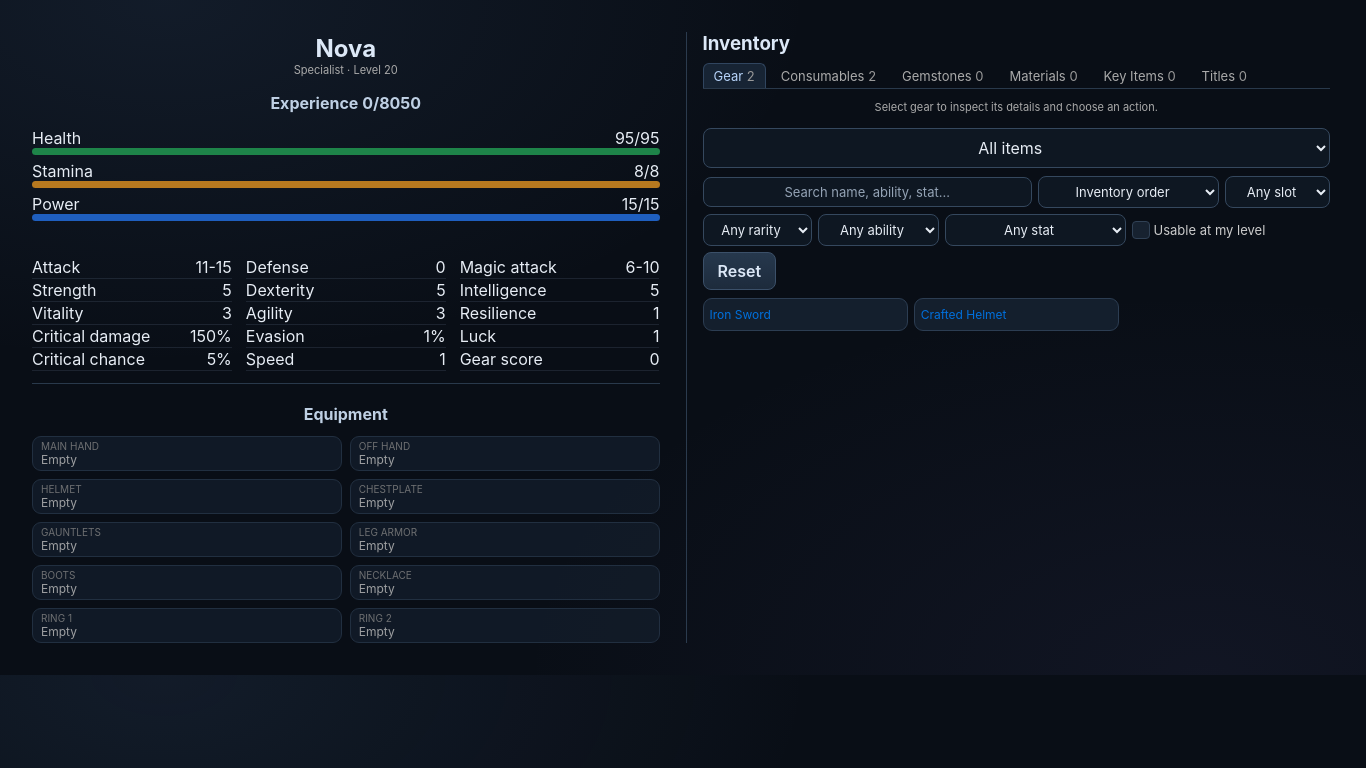
Test case: selecting and applying a rune persists Crafted gear and hides it from further rune targets
Click the tab "Consumables 2": coordinates (828, 76) [770,63,887,88]
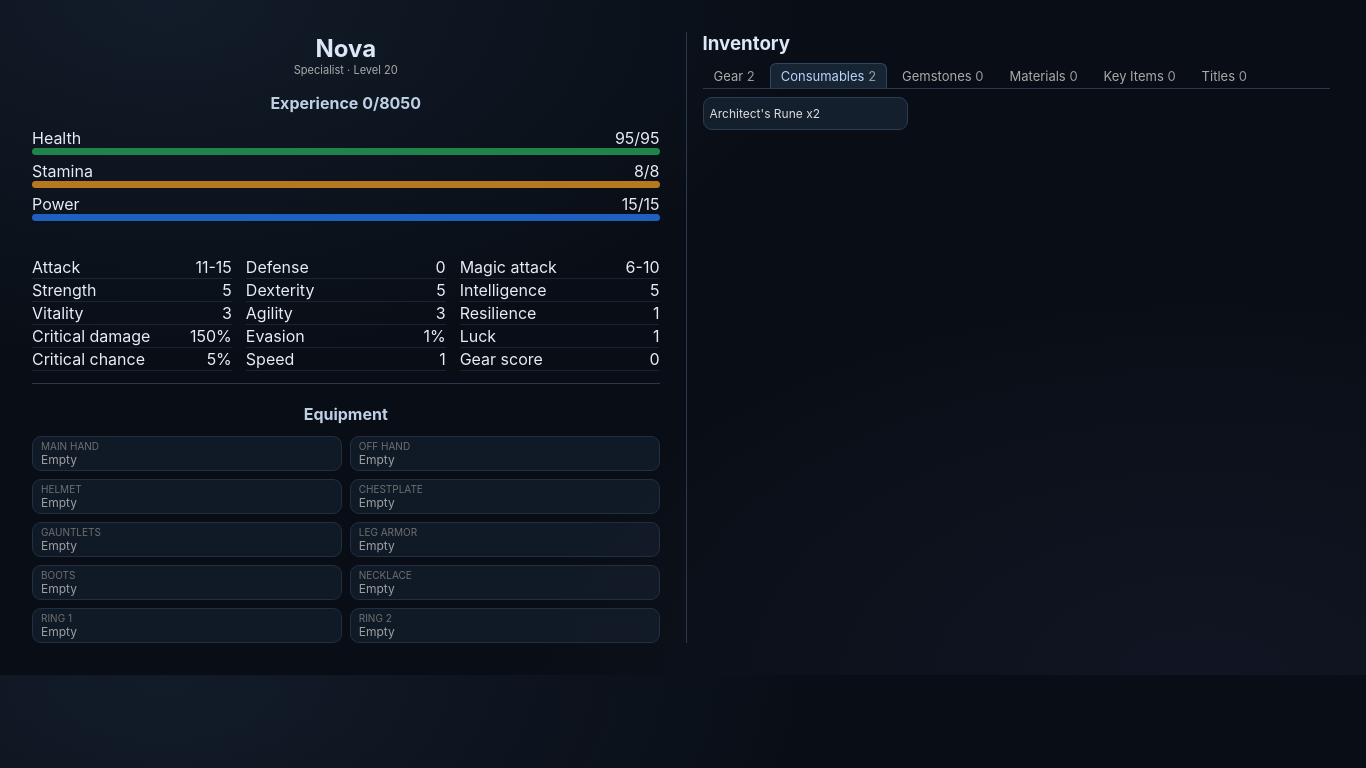
Click the button "Architect's Rune x2": coordinates (805, 114) [702,97,908,130]
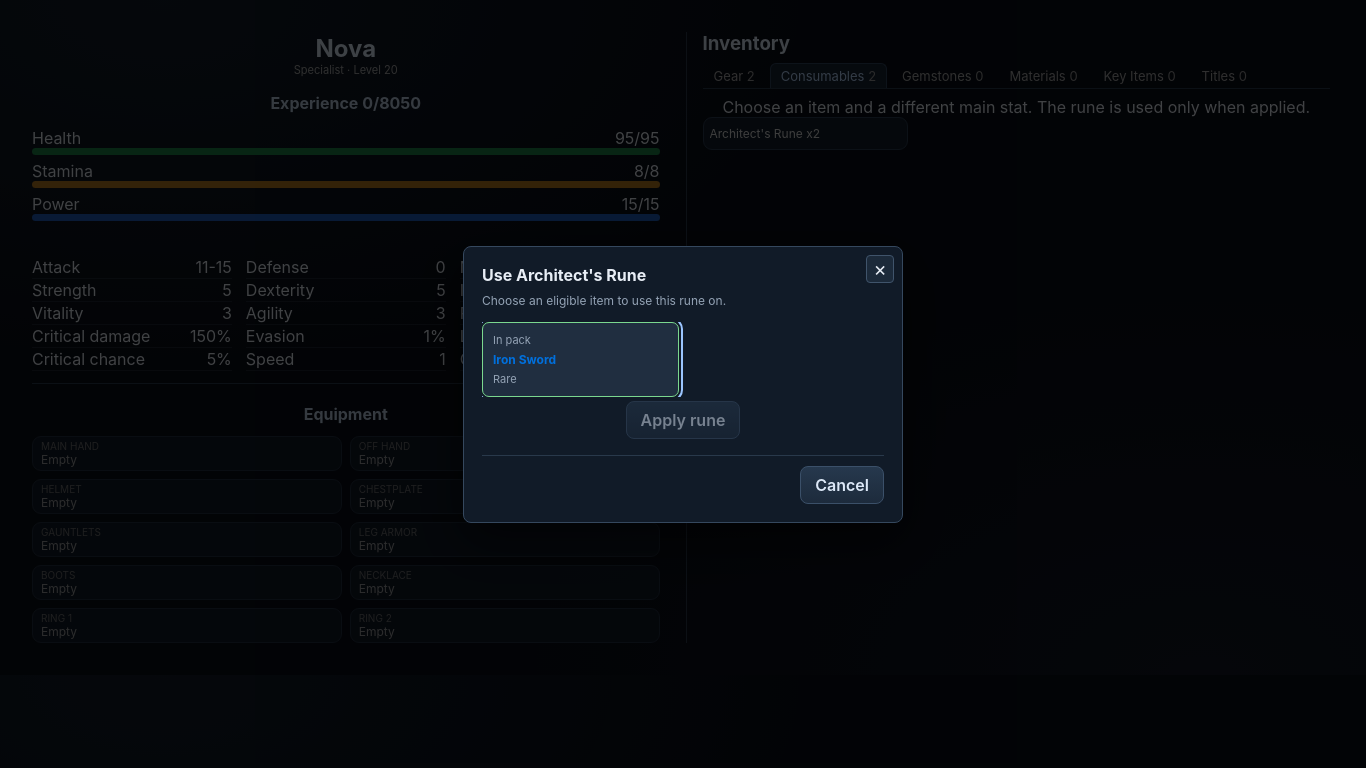
Check: the button "Crafted Helmet" is not shown
Check: the dialog "Use Architect's Rune" is shown, box [463,246,903,522]
Click the button "In pack Iron Sword Rare": coordinates (580, 359) [482,322,679,396]
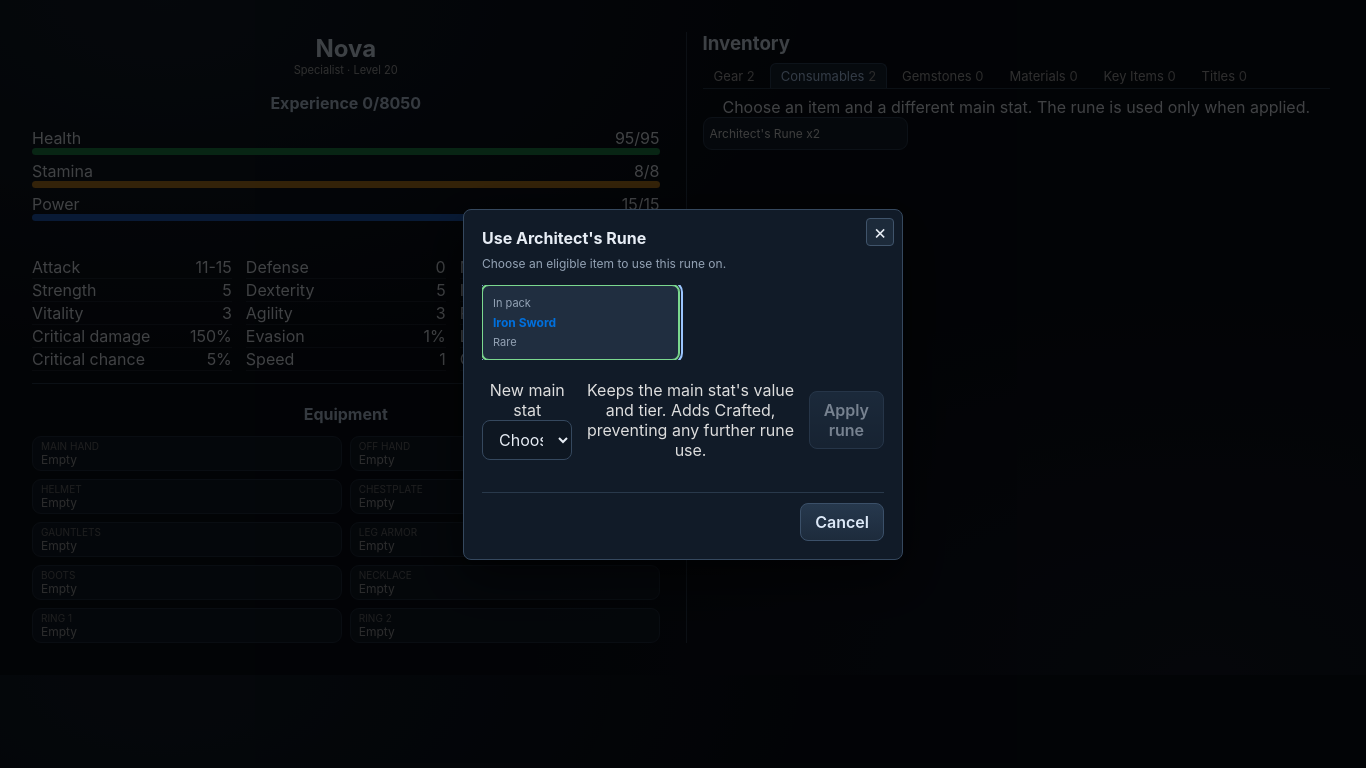
Select "Intelligence" in the dropdown labelled "New main stat": coordinates (527, 440) [482,420,572,460]
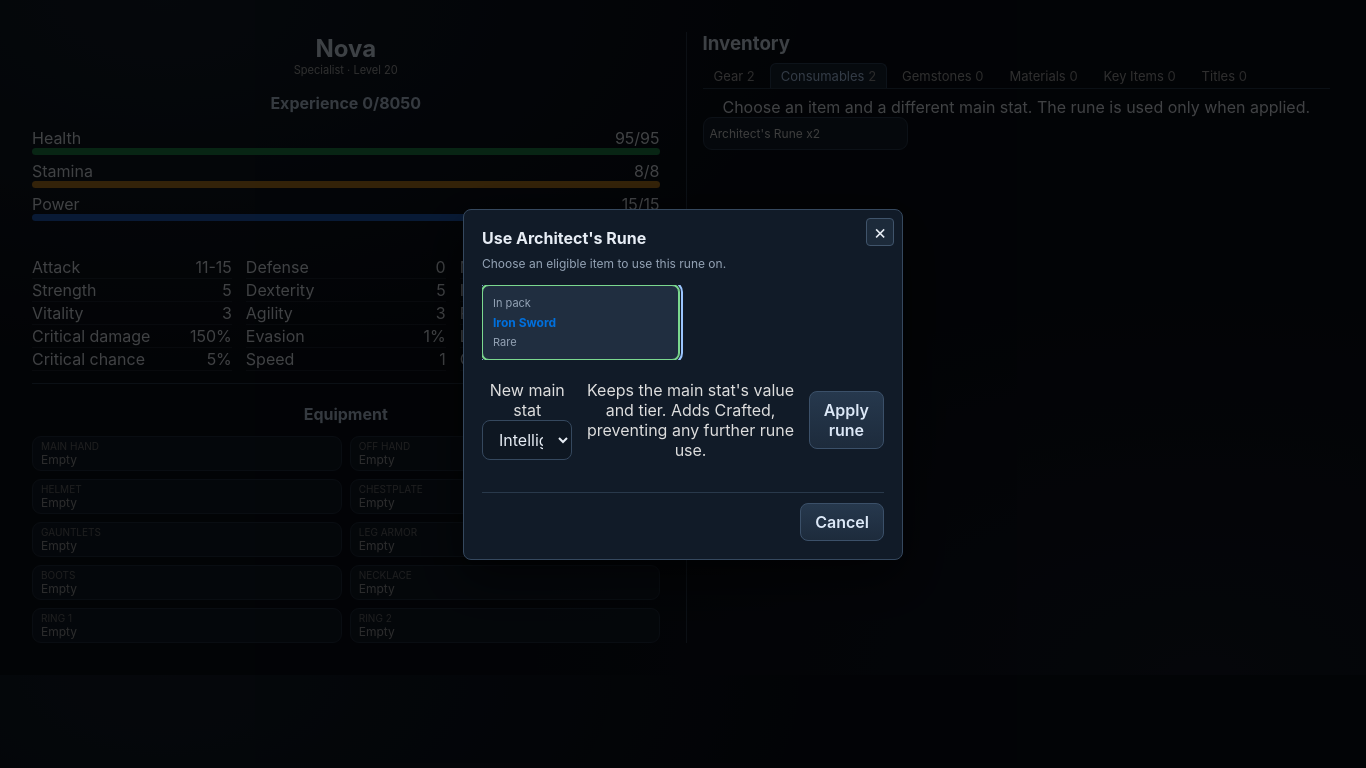
Click the button "Apply rune": coordinates (846, 420) [809,390,884,448]
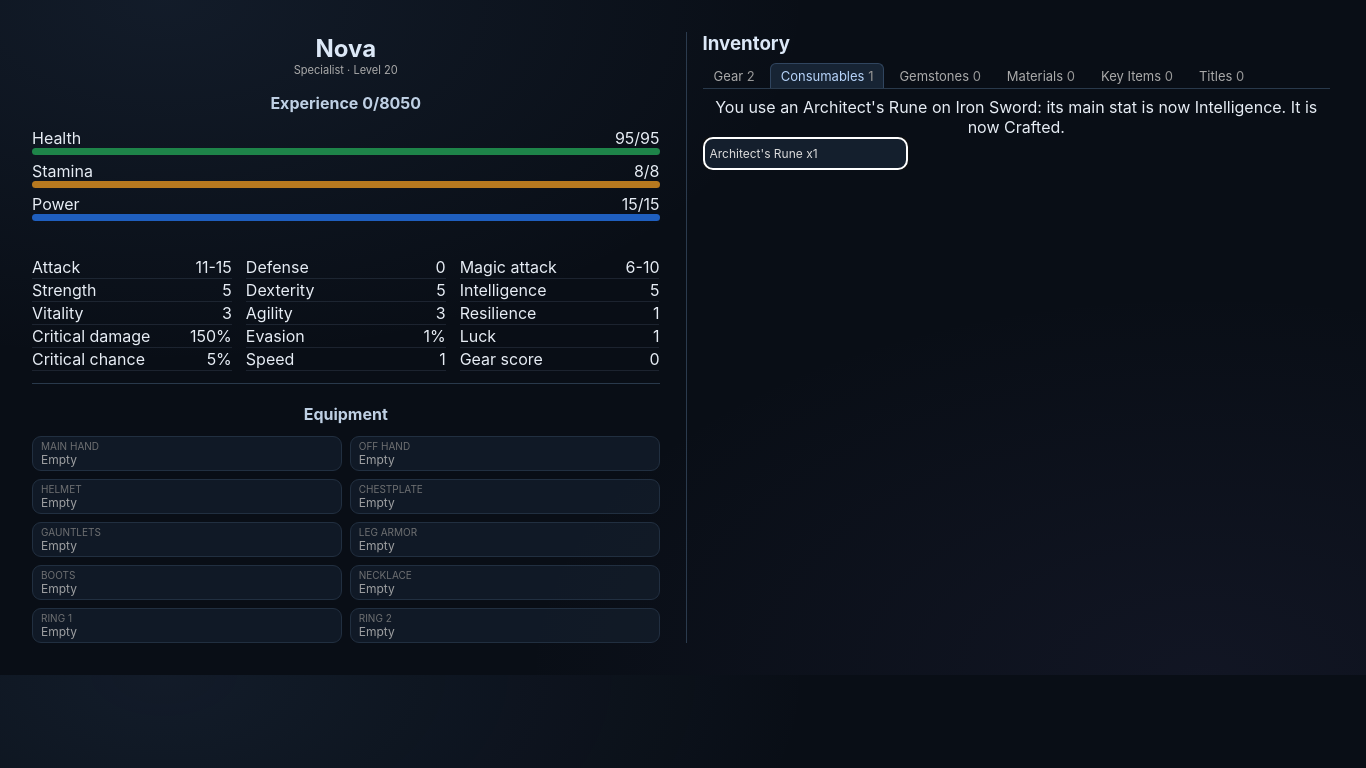
Click the button "Architect's Rune x1": coordinates (805, 154) [702,137,908,170]
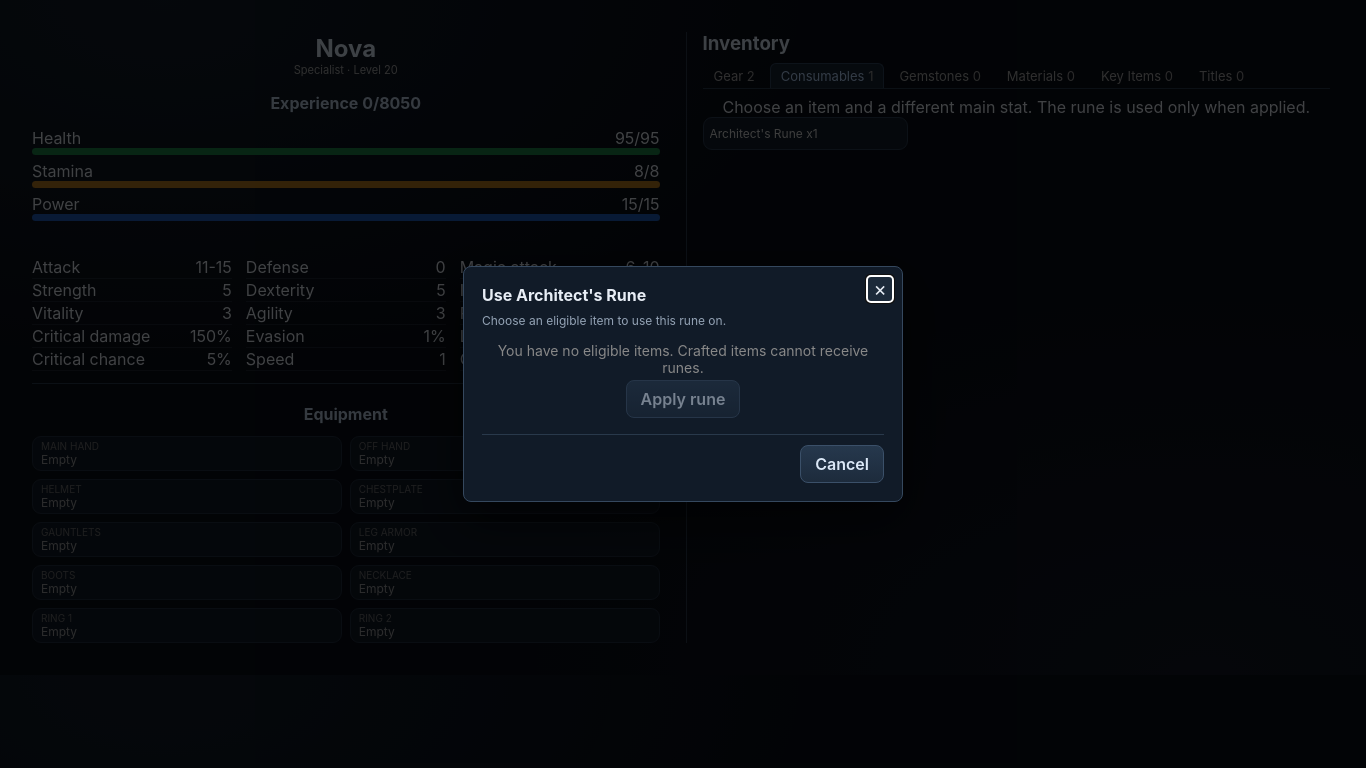
Check: the dialog "Use Architect's Rune" is shown, box [463,266,903,502]
Check: the text "You have no eligible items" is shown, box [498,342,868,376]
